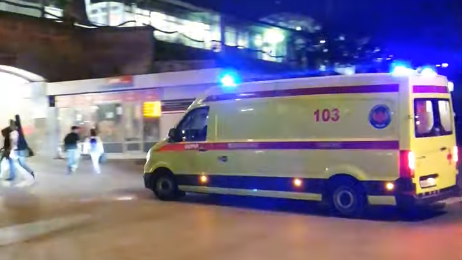intensive care unit: (142, 68, 459, 219)
